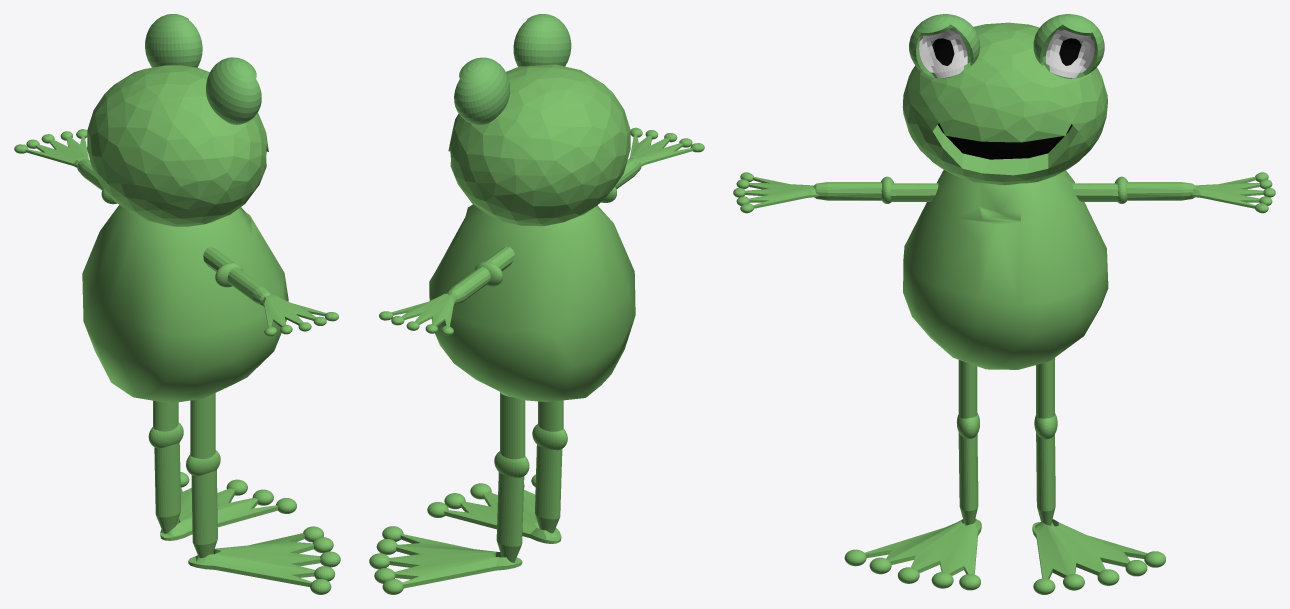
Rendered from forgHeaded.fbx.
3 renders of one model, left to right at view 1: azimuth 30°, elevation 25°; view 2: azimuth 150°, elevation 25°; view 3: azimuth 270°, elevation 25°, orthographic. The views are drawn at different scales.
Visible parts, largest first — view 1: Sphere.006, Icosphere, Cube.006, Cube.003, Sphere.002, Sphere.003, Cylinder.005, Cylinder.008, Cube.002, Cylinder.007, Cube.004, Cylinder.010 (+3 smaller); view 2: Sphere.006, Icosphere, Cube.003, Sphere.003, Cube.006, Sphere.002, Cylinder.005, Cylinder.008, Cube.004, Cylinder.004, Cube.002, Cylinder.009 (+3 smaller); view 3: Sphere.006, Icosphere, Cube.003, Cube.006, Sphere.003, Sphere.002, Cube.004, Cube.002, Cylinder.005, Cylinder.008, Cylinder.009, Cylinder.010 (+4 smaller).
Part boxes in pixels (x1,y1,x2,y2): Sphere.006: (82,205,288,403); Icosphere: (87,65,268,226); Cube.006: (188,526,340,594); Cube.003: (160,472,296,540); Sphere.002: (206,57,261,124); Sphere.003: (145,14,202,67); Cylinder.005: (154,442,180,533); Cylinder.008: (191,470,217,557); Cube.002: (262,294,338,336); Cylinder.007: (190,393,215,458); Cube.004: (14,129,88,167); Cylinder.010: (227,267,270,306); Sphere.006: (429,204,635,402); Icosphere: (448,64,630,226); Cube.003: (369,526,522,594); Sphere.003: (454,57,509,125); Cube.006: (427,474,561,543); Sphere.002: (513,14,571,66); Cylinder.005: (496,472,524,562); Cylinder.008: (534,445,562,533); Cube.004: (379,293,455,335); Cylinder.004: (500,392,525,459); Cube.002: (629,127,704,166); Cylinder.009: (447,266,490,305); Sphere.006: (903,170,1108,369); Icosphere: (902,22,1107,185); Cube.003: (1032,519,1165,594); Cube.006: (844,518,981,590); Sphere.003: (1033,14,1104,78); Sphere.002: (909,14,980,78); Cube.004: (1190,172,1275,213); Cube.002: (733,172,818,213); Cylinder.005: (1036,432,1055,525); Cylinder.008: (958,432,978,525); Cylinder.009: (1127,182,1195,200); Cylinder.010: (813,182,881,200).
Bounding box in the file's own units: 111 × 256 × 238.
